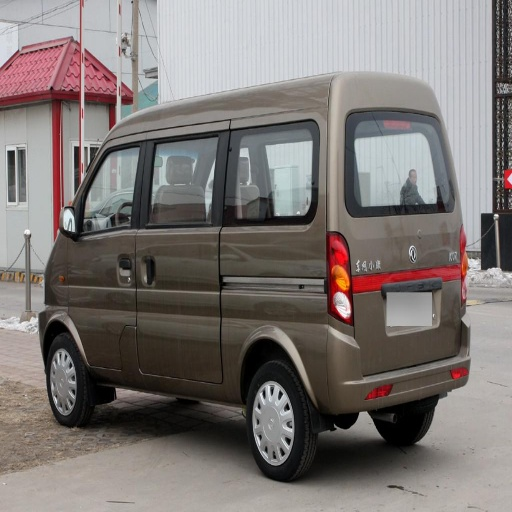back_bumper: (379, 316, 470, 403)
back_glass: (364, 148, 439, 209)
back_left_door: (218, 118, 317, 211), (139, 131, 215, 252)
back_left_light: (327, 238, 352, 323)
trunk: (147, 215, 459, 405), (70, 290, 131, 347)
